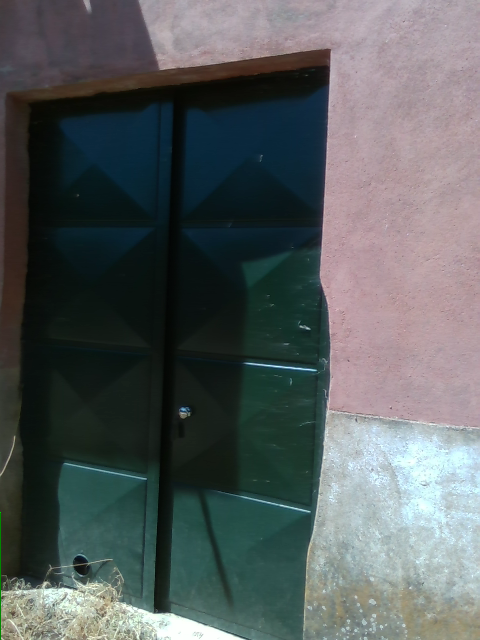closed: (17, 46, 330, 639)
